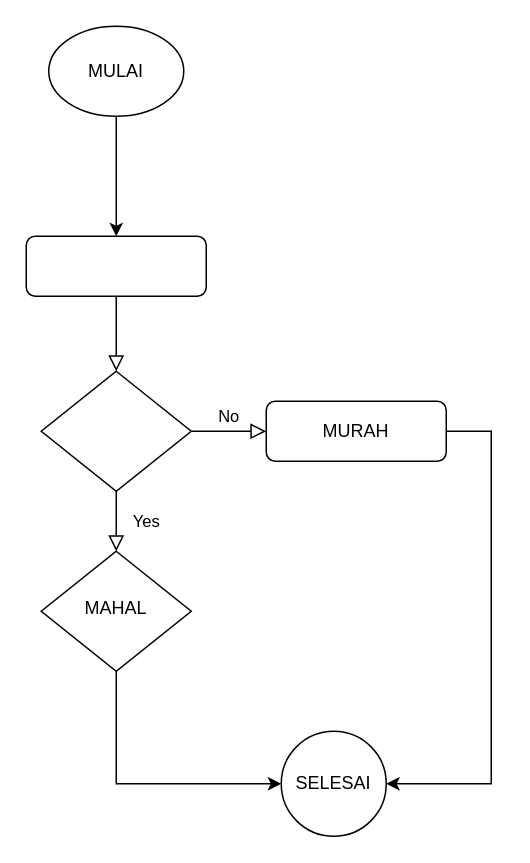
This 530x863 diagram has some shape labels left out. Here are the shapes that lost their labels. From the top down, the centre of each, then its label:
(x=115, y=265): INPUT BERAT BARANG
(x=115, y=430): BERAT
